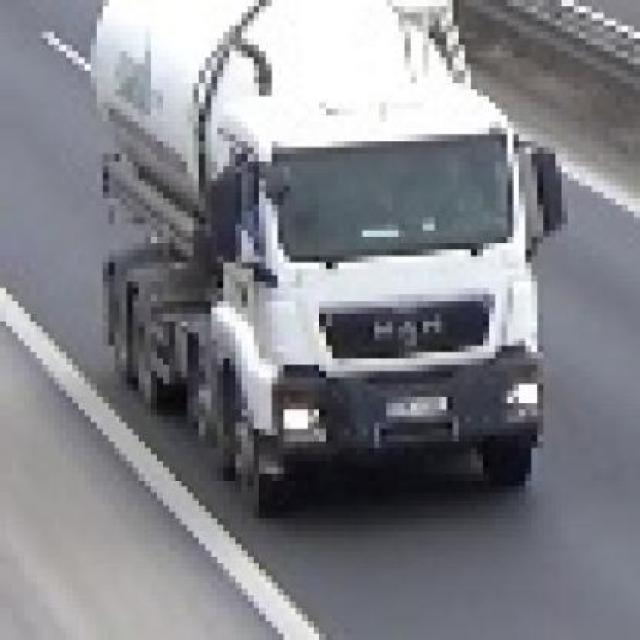truck: (104, 1, 564, 507)
